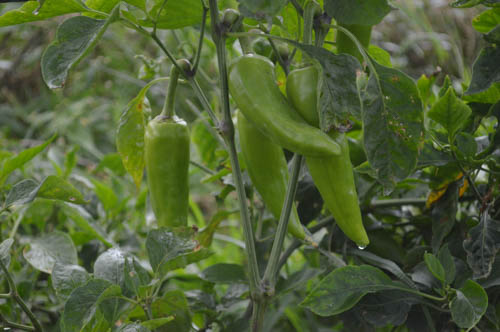ChiliPepper: (287, 67, 368, 243), (232, 58, 343, 154), (235, 114, 310, 236), (147, 121, 191, 224)
